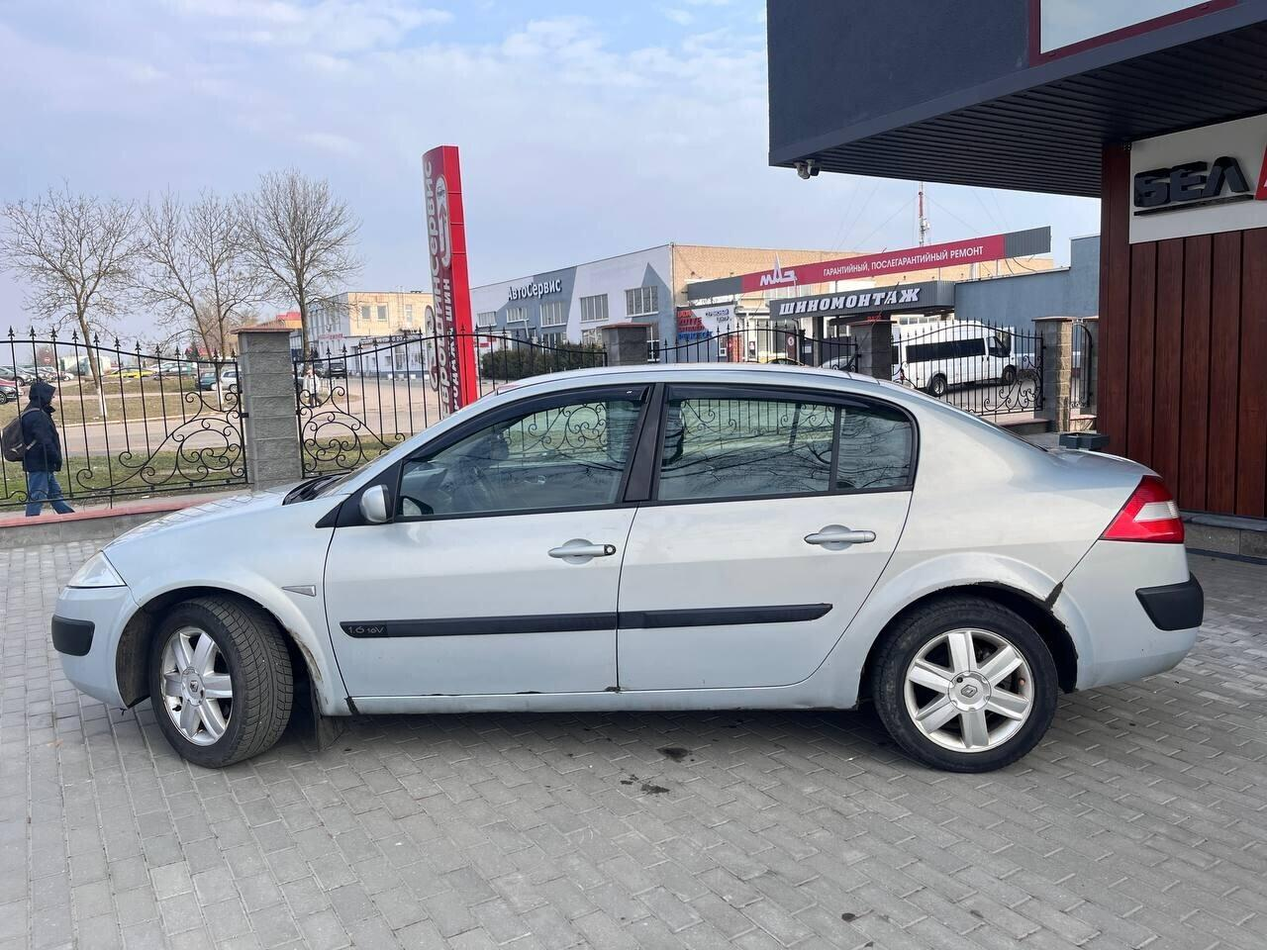Megane_2002-2006: (43, 365, 1218, 771)
